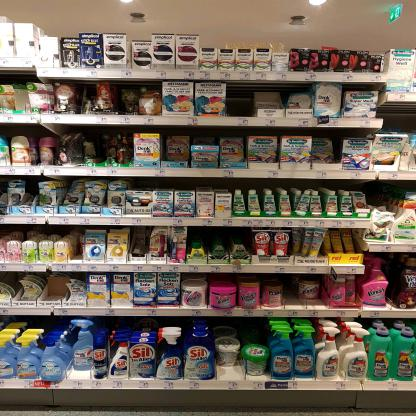Void: (188, 227, 249, 243), (384, 104, 416, 128), (230, 84, 251, 116), (43, 274, 61, 301), (191, 129, 218, 145), (244, 318, 266, 336), (367, 183, 387, 202), (71, 241, 81, 264), (292, 300, 324, 306)
